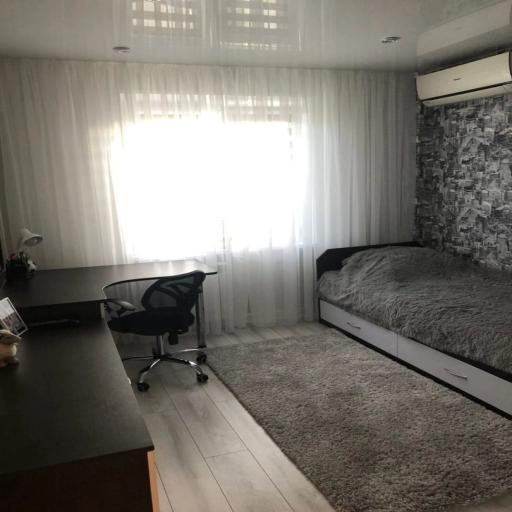bus: (104, 272, 207, 391)
person: (318, 243, 511, 414)
stroller: (0, 260, 216, 511)
